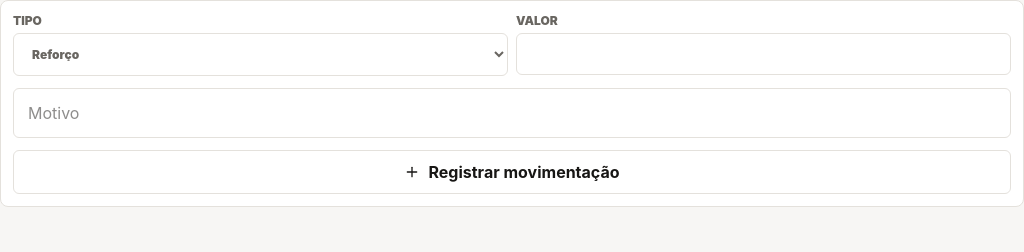
mantém valor e motivo no erro e limpa somente ao registrar a movimentação
Type "50" into the number field. click: [764, 54]
box: [516,33,1011,75]
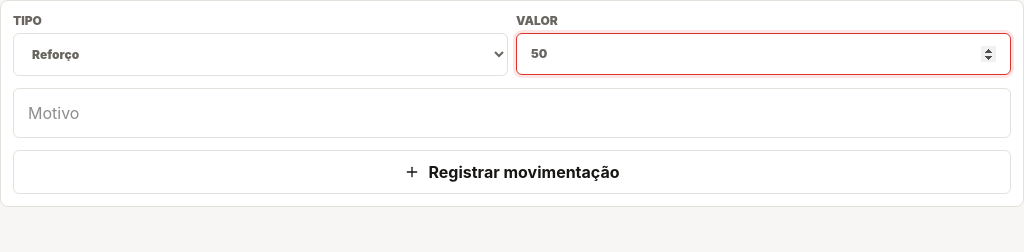
Type "Reforço de troco" into the field labelled "Motivo". click: [512, 113]
box: [13,88,1011,138]
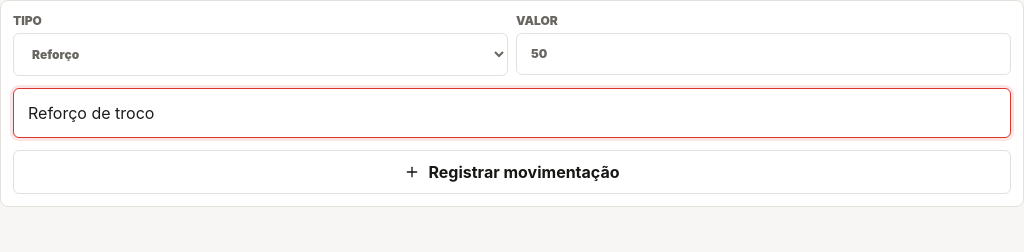
Click the button "Registrar movimentação". click: [512, 172]
box: [13,150,1011,194]
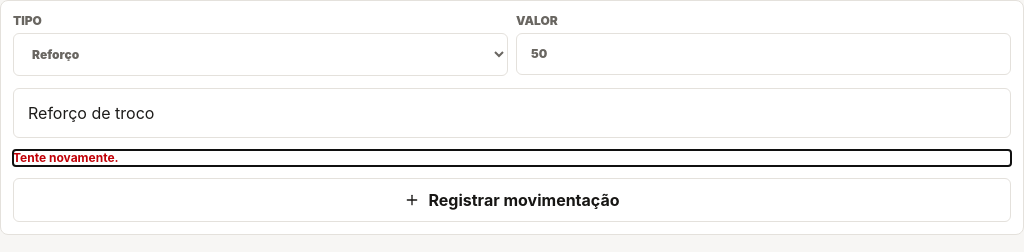
Click the button "Registrar movimentação". click: [512, 200]
box: [13,178,1011,222]
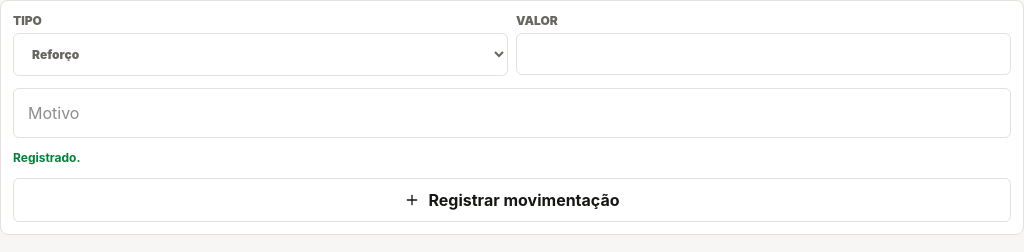
Now the field is empty, box [13,88,1011,138]
Now the message reads "Registrado.", box [13,150,80,165]
